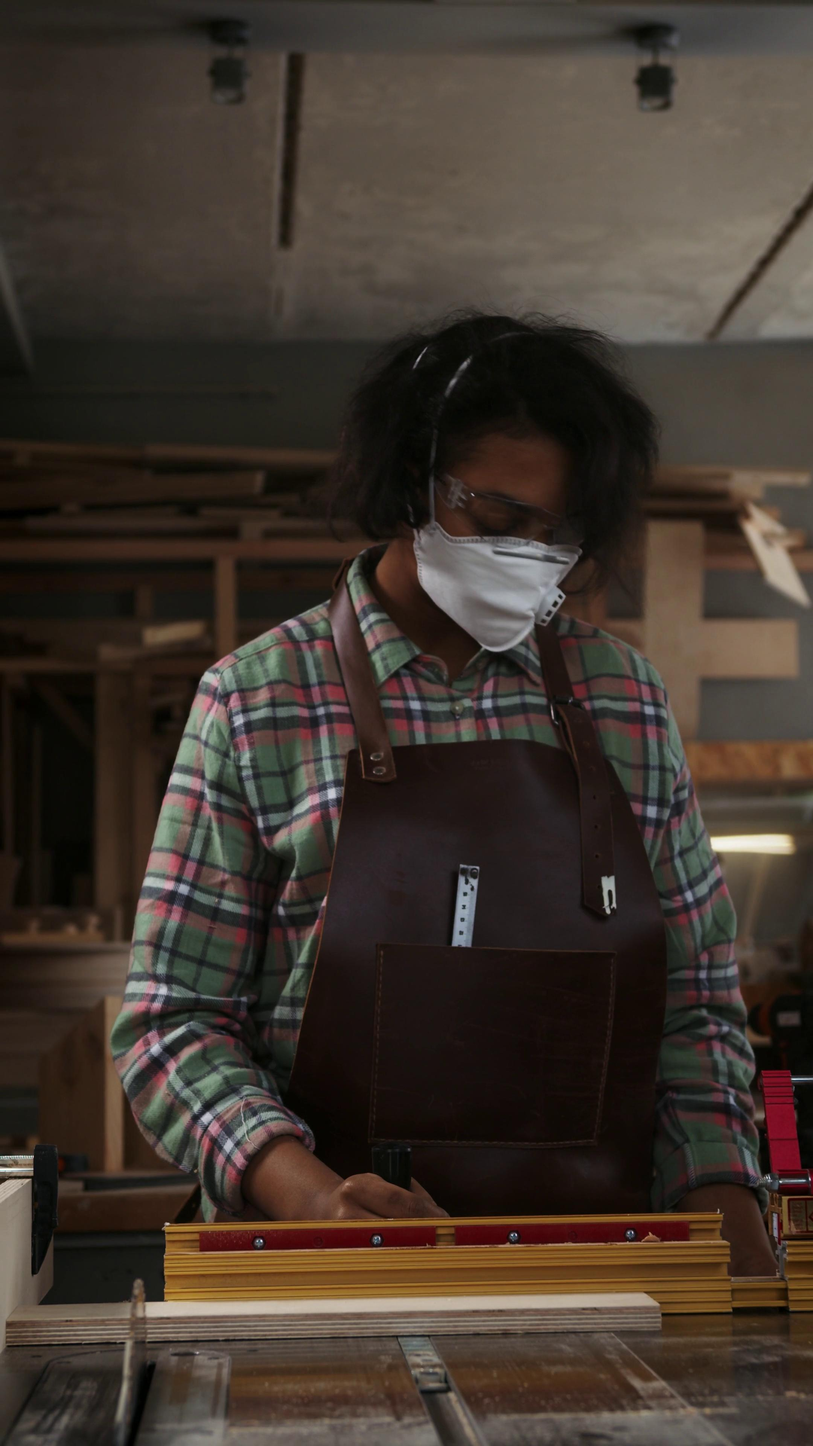mask: (412, 520, 582, 653)
person: (111, 309, 783, 1286)
